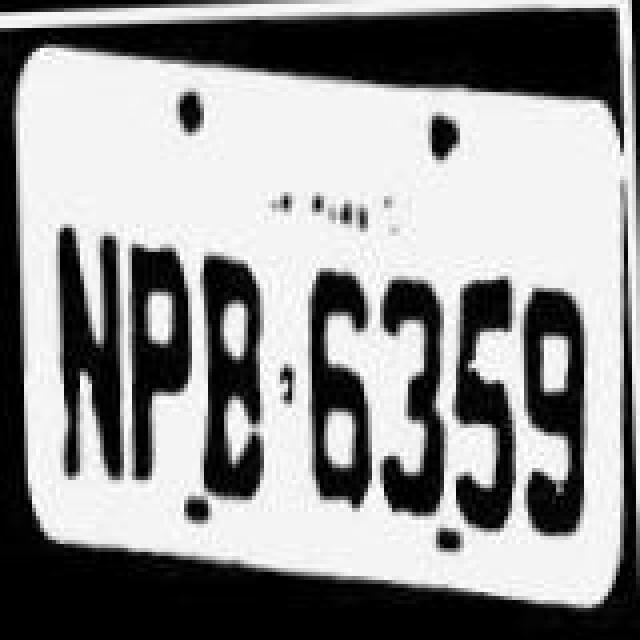3: (372, 252, 448, 520)
5: (438, 224, 526, 536)
6: (296, 256, 380, 516)
9: (514, 256, 594, 536)
B: (192, 238, 276, 502)
N: (40, 216, 128, 488)
P: (124, 232, 200, 500)
